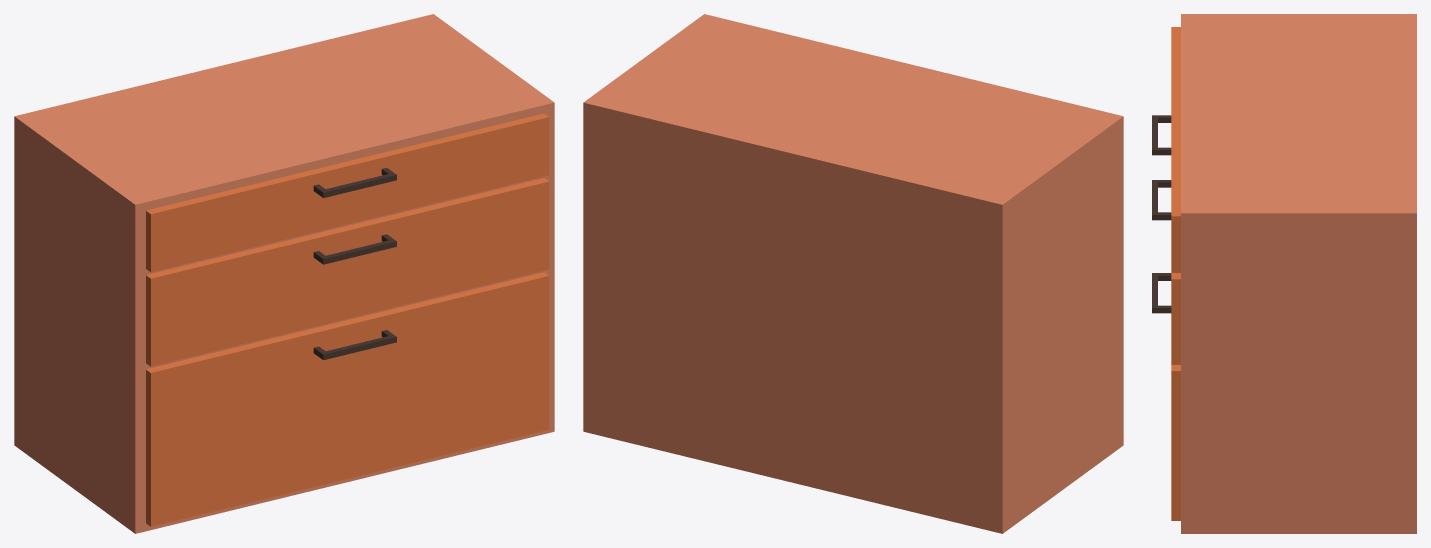
Rendered from meublesCuisineBas4.fbx.
3 views of the same model, side by side, from view 1: azimuth 30°, elevation 25°; view 2: azimuth 150°, elevation 25°; view 3: azimuth 270°, elevation 25° (orthographic). The views are drawn at different scales.
Visible parts, largest first — view 1: placard5; view 2: placard5; view 3: placard5.
Part boxes in pixels (<box>): placard5: <box>14,14,554,533</box>; placard5: <box>583,14,1123,533</box>; placard5: <box>1152,14,1416,533</box>.
Bounding box in the file's own units: 400 × 300 × 224.
